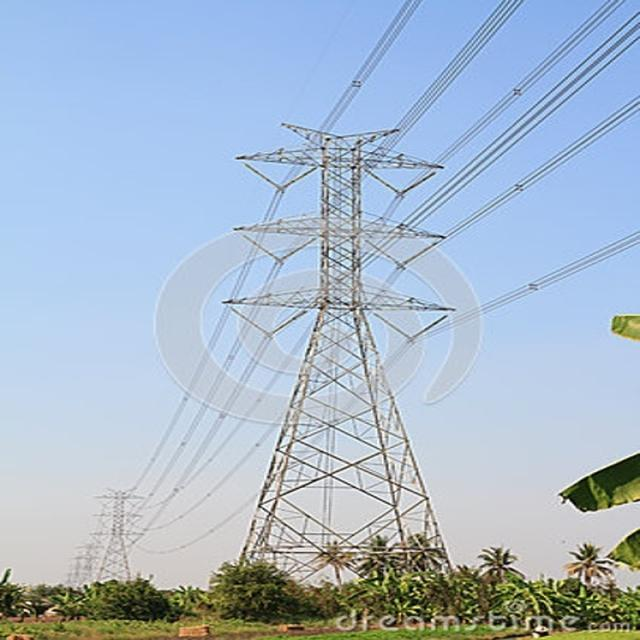non-critical vegetation: (243, 111, 464, 548)
